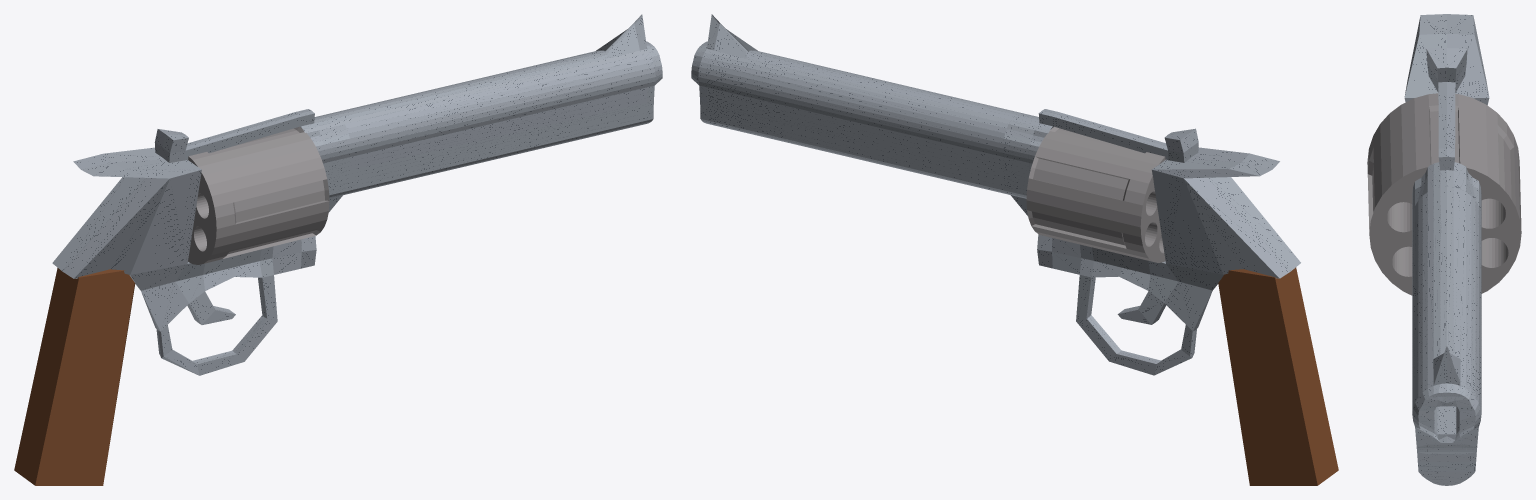
The model's file is Gunmo.fbx.
3 views of the same model, side by side, from view 1: azimuth 30°, elevation 25°; view 2: azimuth 150°, elevation 25°; view 3: azimuth 270°, elevation 25° (orthographic). The views are drawn at different scales.
Visible parts, largest first — view 1: Circle, Cube, Cylinder; view 2: Circle, Cube, Cylinder; view 3: Circle, Cylinder.
Part boxes in pixels (x1,y1,x2,y2): Circle: (52,14,662,375); Cube: (14,268,135,485); Cylinder: (188,126,329,264); Circle: (691,14,1300,375); Cube: (1218,267,1338,485); Cylinder: (1026,126,1165,262); Circle: (1404,14,1489,485); Cylinder: (1367,93,1521,295).
Size of the model in its own units: 347 by 174 by 56.7.
3 materials, 3 textured.
